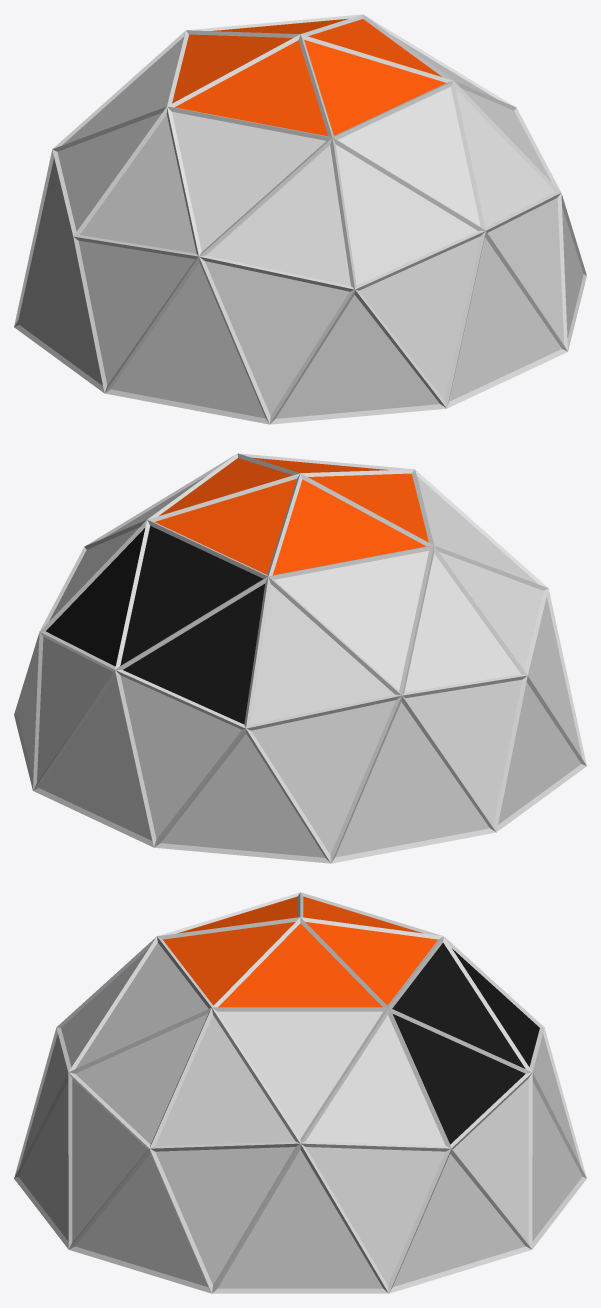
The picture shows the model from 3 angles, top to bottom: view 1: azimuth 30°, elevation 25°; view 2: azimuth 150°, elevation 25°; view 3: azimuth 270°, elevation 25°; orthographic projection. The views are drawn at different scales.
Parts seen in each view (by area): view 1: Base; view 2: Base; view 3: Base.
Part boxes in pixels (<box>): Base: <box>14,14,586,424</box>; Base: <box>14,453,586,863</box>; Base: <box>14,892,586,1293</box>.
Size of the model in its own units: 1.92 by 1.02 by 2.02.
